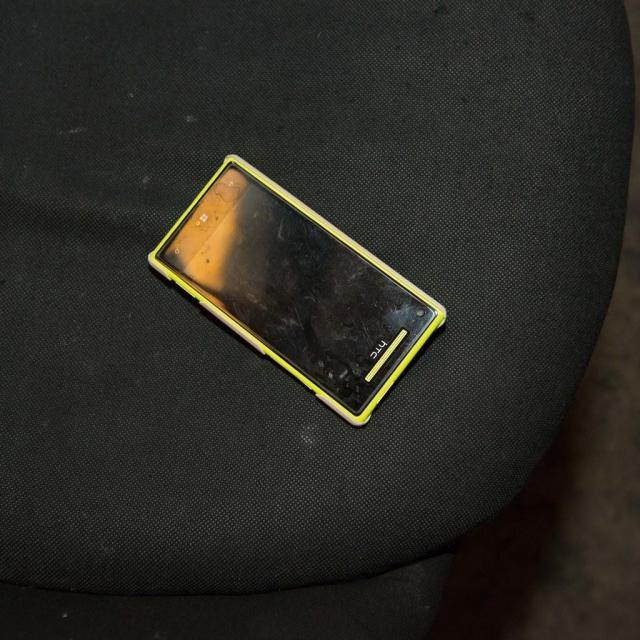Phone: (146, 152, 446, 428)
